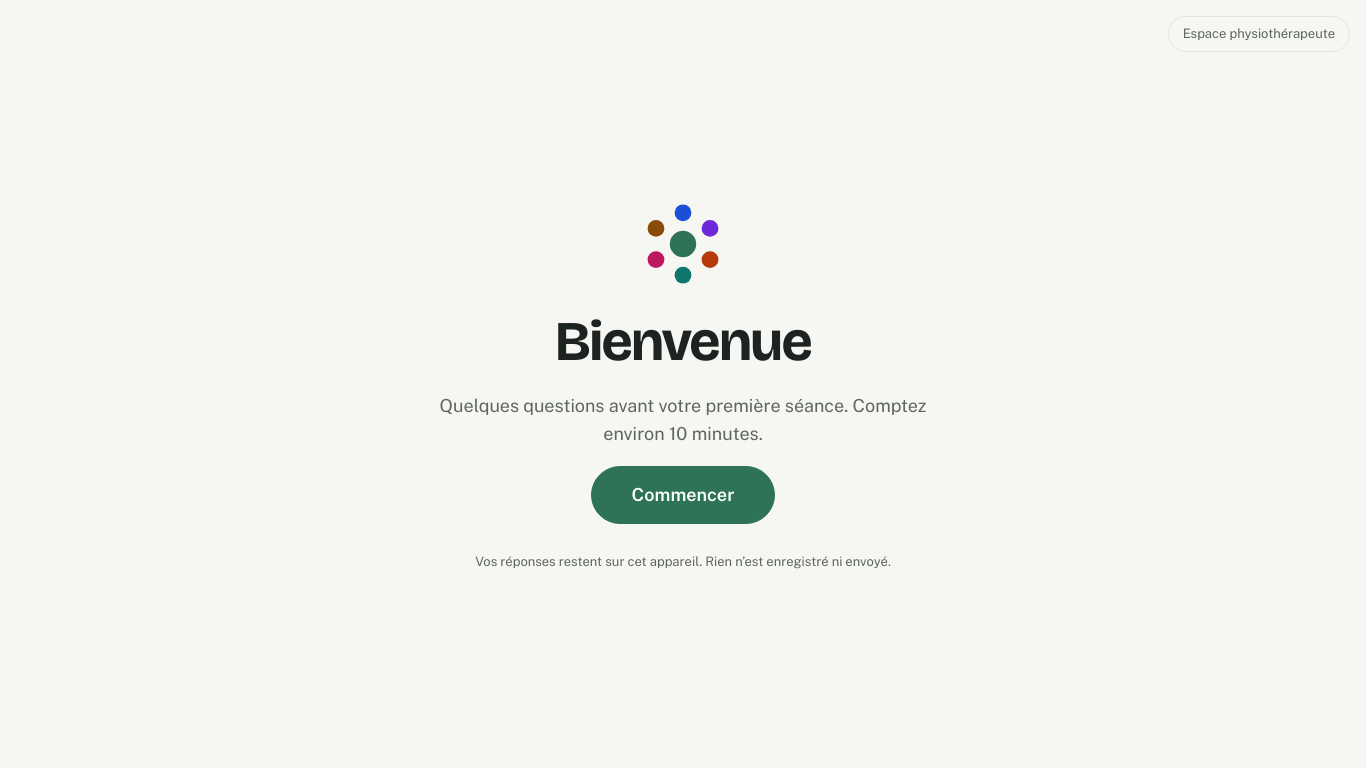
Test: espace physio › drapeau rouge : alerte et pastille dans la navigation
Step 1. Click the button "Espace physiothérapeute" → (1259, 34), box [1168,16,1350,52]
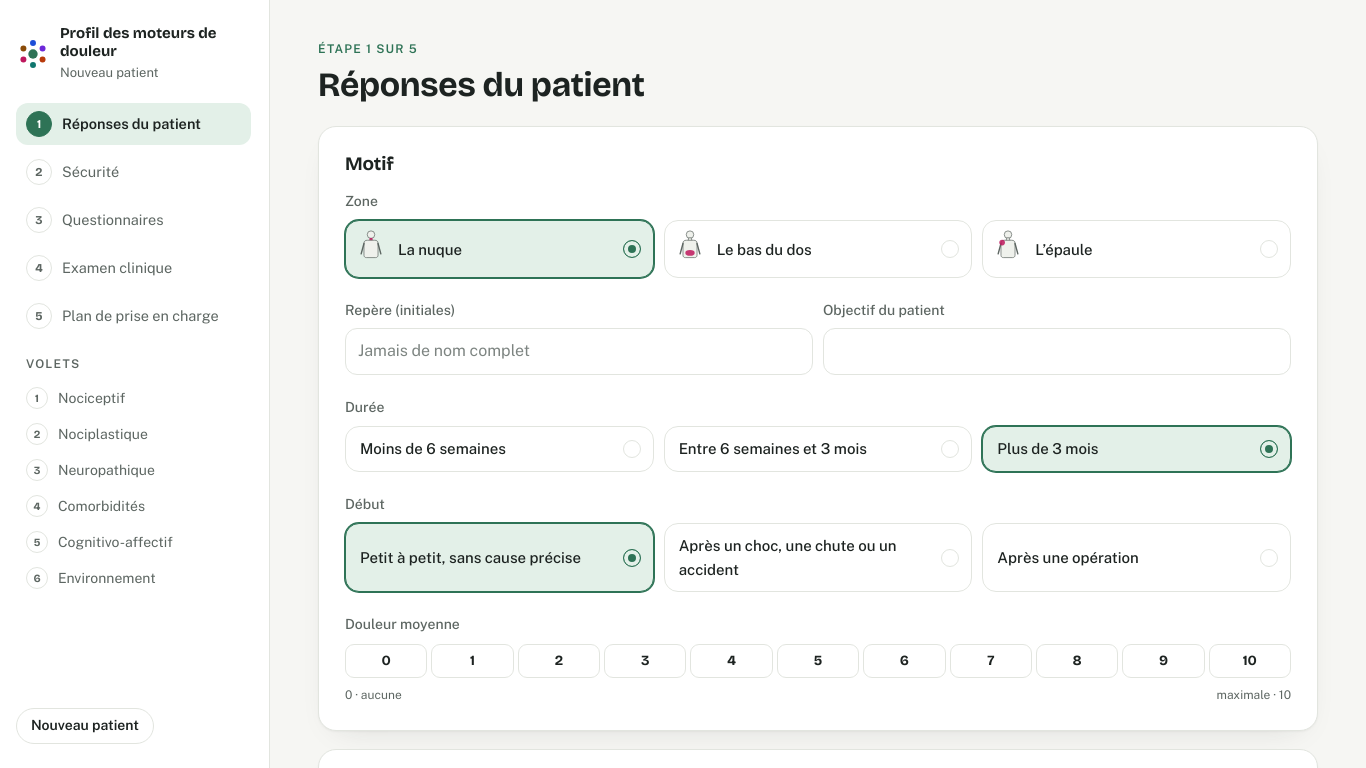
Step 2. Click the button "2 Sécurité" → (134, 172), box [16,151,251,193]
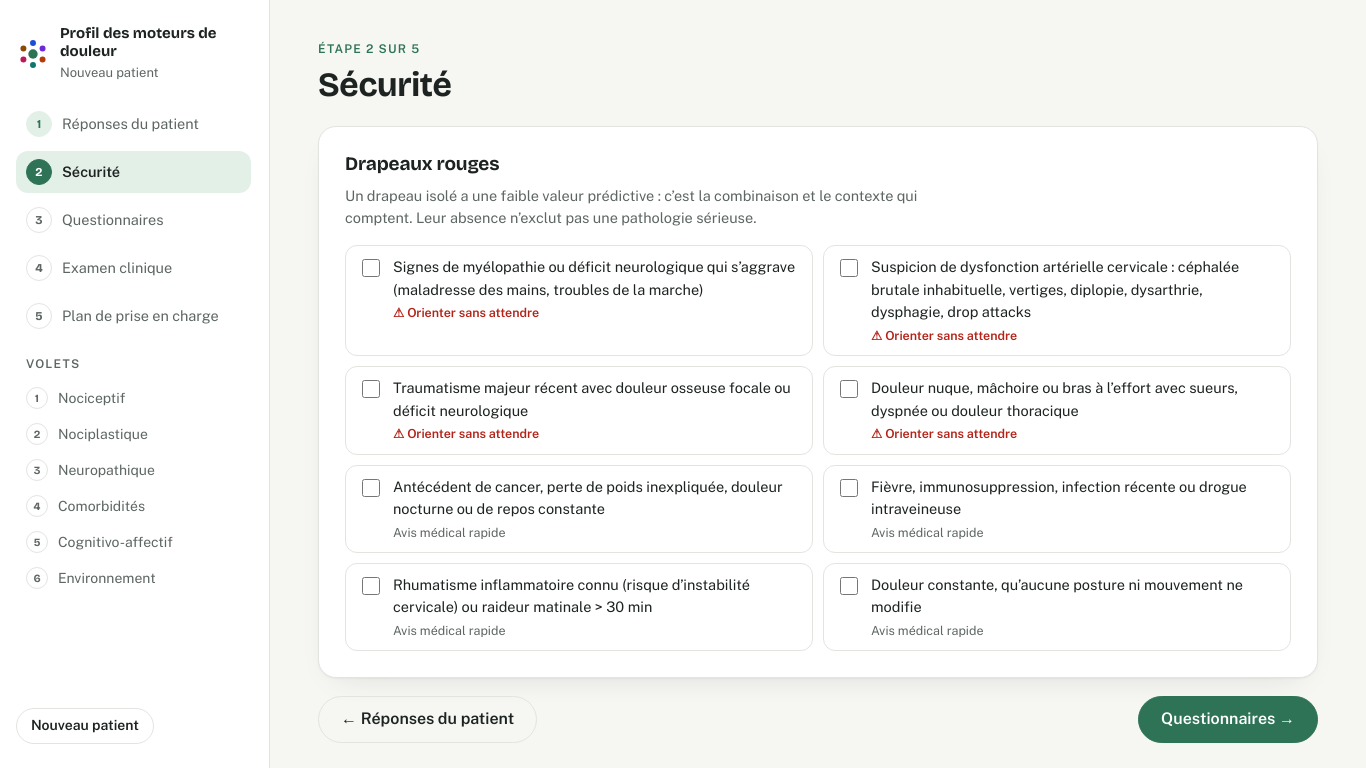
Step 3. Click the checkbox labelled "Signes de myélopathie" → (371, 268), box [362,260,380,278]
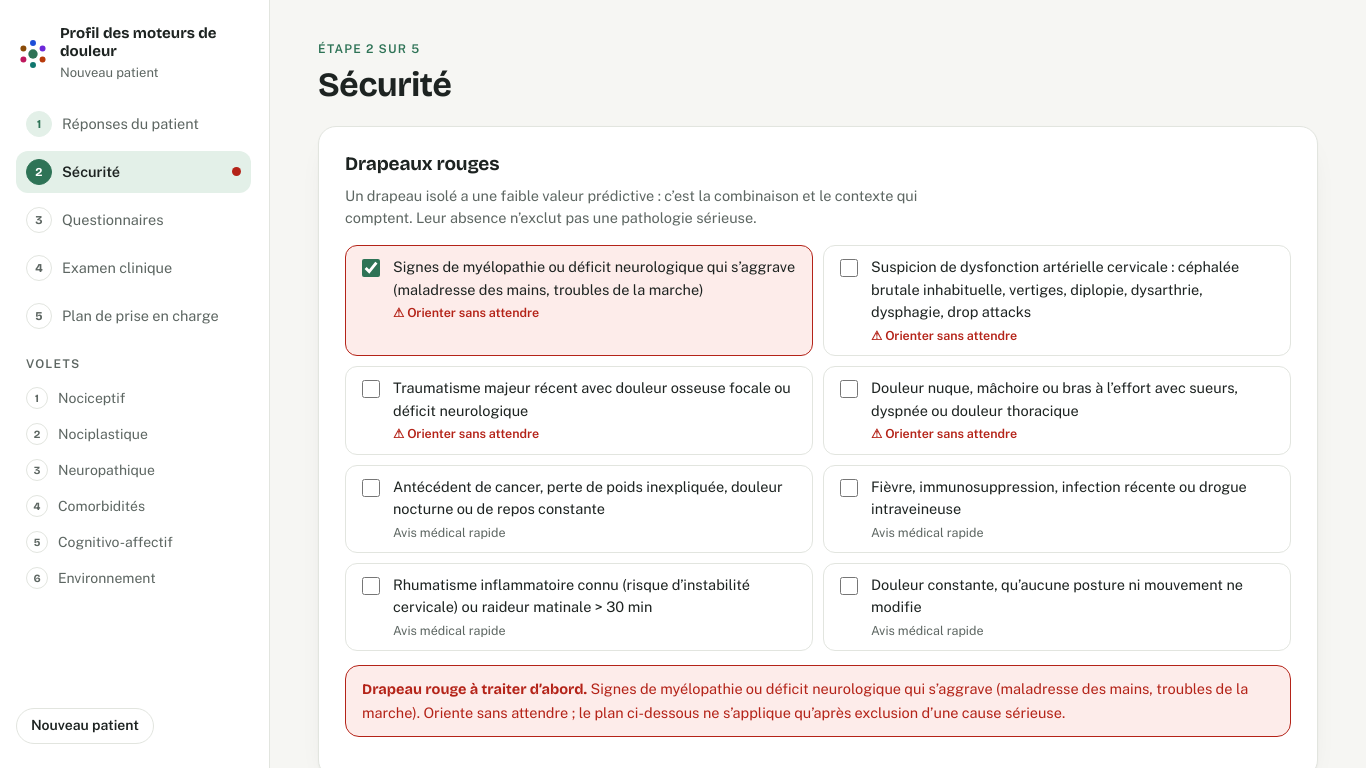
Expected: the text "Drapeau rouge à traiter d’abord." is shown, [362,681,587,698]
Expected: the button with aria-label "Sécurité, 1 drapeau(x) rouge(s)" is shown, [16,151,251,193]
